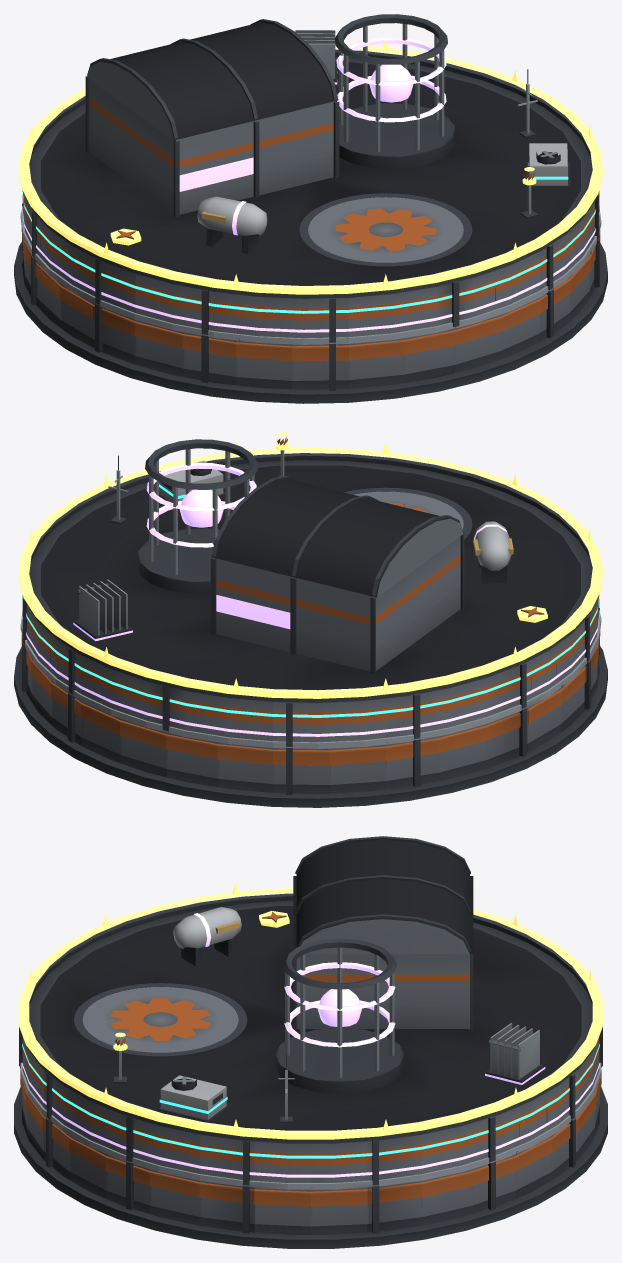
File: metamaterial_foundry_m_far.glb
The picture shows the model from 3 angles, top to bottom: view 1: azimuth 30°, elevation 25°; view 2: azimuth 150°, elevation 25°; view 3: azimuth 270°, elevation 25°; orthographic projection.
Parts seen in each view (by area): view 1: Roof, Base, L5, L4, L2, L3; view 2: Roof, Base, L5, L4, L2, L3; view 3: Roof, Base, L5, L4, L2, L3.
Part boxes in pixels (bbox=[...]): Roof: bbox=[22, 14, 599, 342]; Base: bbox=[14, 204, 607, 403]; L5: bbox=[18, 43, 603, 294]; L4: bbox=[22, 30, 599, 332]; L2: bbox=[20, 69, 601, 344]; L3: bbox=[22, 143, 599, 313]; Roof: bbox=[22, 439, 599, 746]; Base: bbox=[14, 608, 607, 807]; L5: bbox=[18, 432, 603, 698]; L4: bbox=[22, 521, 599, 736]; L2: bbox=[20, 455, 601, 748]; L3: bbox=[22, 460, 599, 717]; Roof: bbox=[19, 836, 602, 1185]; Base: bbox=[14, 1066, 607, 1248]; L5: bbox=[18, 883, 603, 1139]; L4: bbox=[22, 907, 599, 1177]; L2: bbox=[20, 1055, 601, 1189]; L3: bbox=[22, 1044, 599, 1158].
Bounding box in the file's own units: 14.75 × 5.94 × 14.75.
